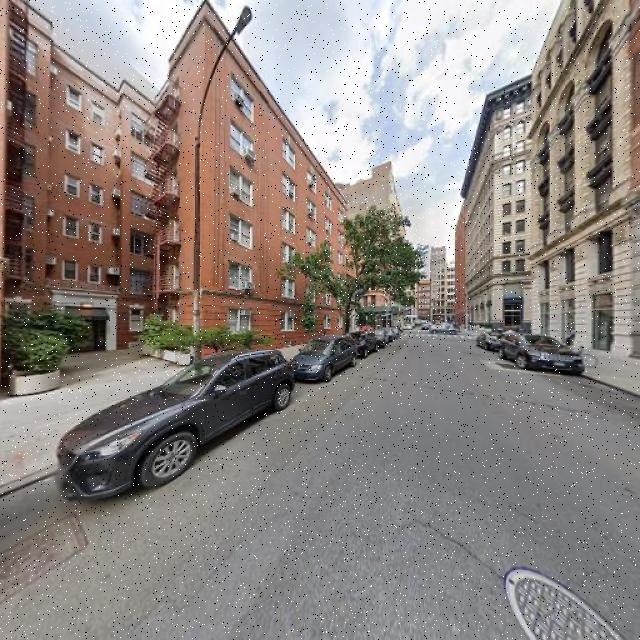Building: (1, 1, 157, 399), (205, 1, 345, 362), (537, 1, 628, 357), (637, 1, 640, 358)
